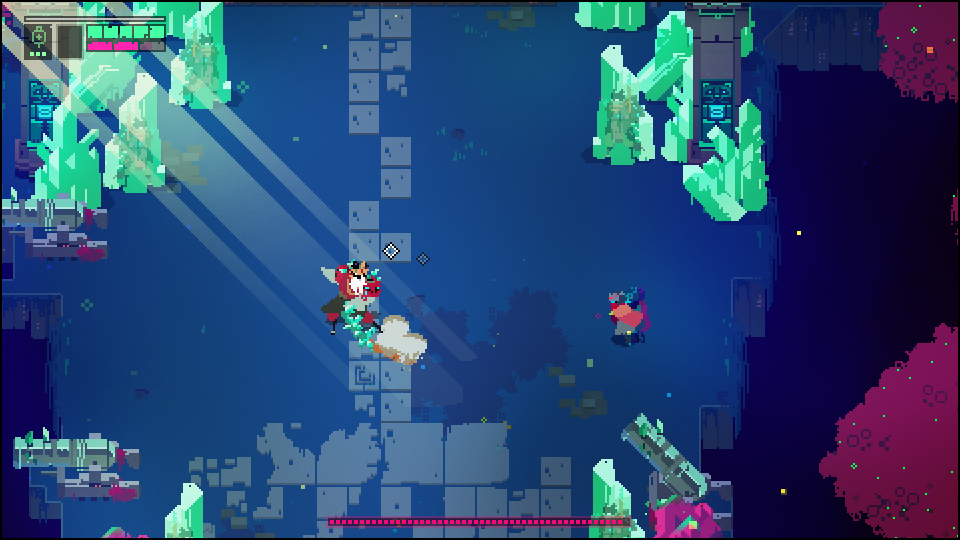hanged_man: (320, 264, 398, 352)
player: (610, 294, 642, 343)
